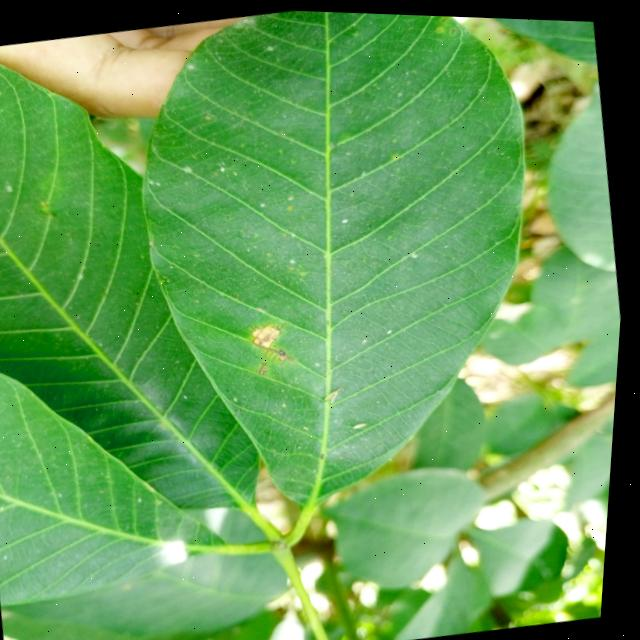Colletotrichum: (236, 292, 241, 296)
Corynespora: (253, 333, 299, 367), (255, 321, 288, 347)
